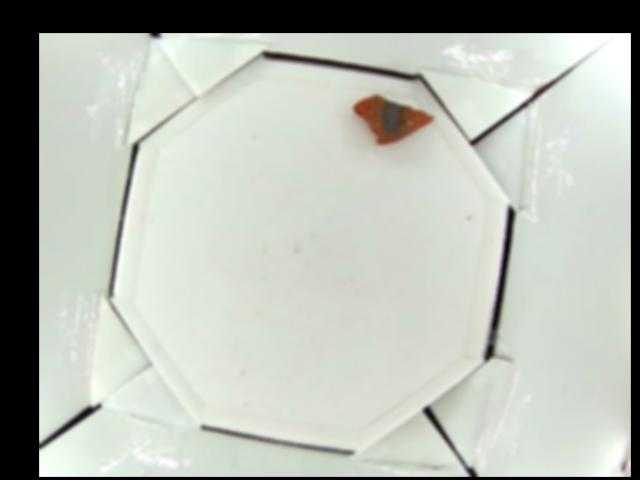Brisk: (353, 93, 432, 145)
